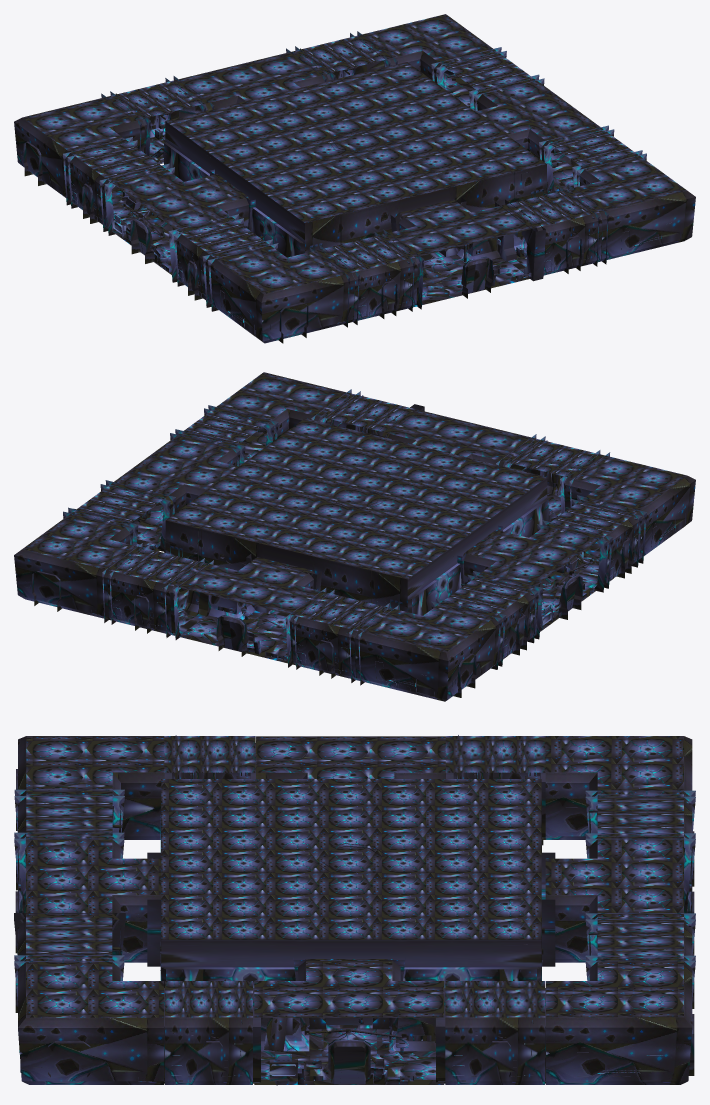
The model's file is Combined_Mesh_root_scene__16_1995fef1__ZombiesII_laboratory_11_d_6be3923c_c1f257.obj.
The picture shows the model from 3 angles, top to bottom: view 1: azimuth 30°, elevation 25°; view 2: azimuth 150°, elevation 25°; view 3: azimuth 270°, elevation 25°; orthographic projection. The views are drawn at different scales.
Bounding box in the file's own units: 72.61 × 10.34 × 71.75.
Materials: 726 (726 with a texture image).
